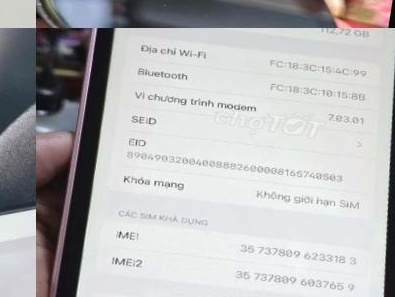scratch: (36, 0, 82, 28)
